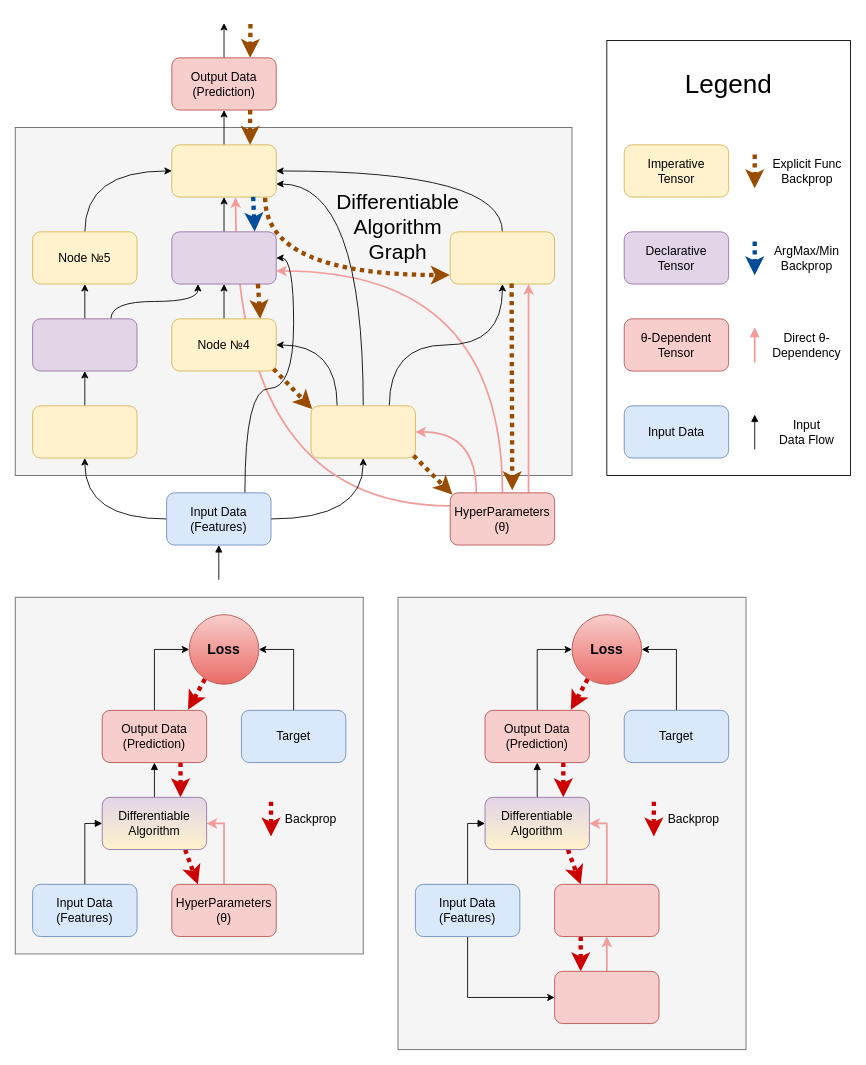
Some shapes in this 866 by 1065 pixel diagram are drawn without their labels. The centre of each missing label's shape, as x and y in pixels:
Estimated Parameters: the point at 606,910
Neural Network: the point at 606,997
Node №1: the point at 84,431
Node №2: the point at 362,431
Node №3: the point at 84,344
Node №6: the point at 223,257
Node №7: the point at 502,257
Node №8: the point at 223,170
